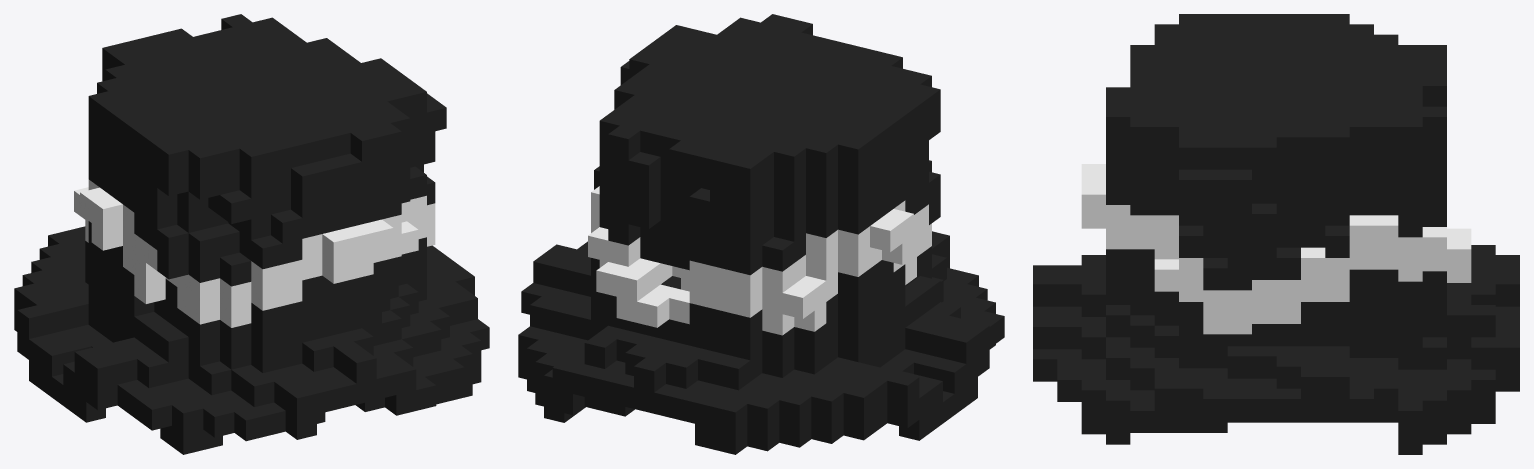
File: hop_hat.glb
3 views of the same model, side by side, from view 1: azimuth 30°, elevation 25°; view 2: azimuth 150°, elevation 25°; view 3: azimuth 270°, elevation 25° (orthographic). The views are drawn at different scales.
Visible parts, largest first — view 1: Hat; view 2: Hat; view 3: Hat.
Part boxes in pixels (x1,y1,x2,y2): Hat: [14, 14, 489, 454]; Hat: [518, 14, 1004, 454]; Hat: [1033, 14, 1519, 454].
Size of the model in its own units: 0.9077 by 0.621 by 0.9555.
Materials: 1 (1 with a texture image).
